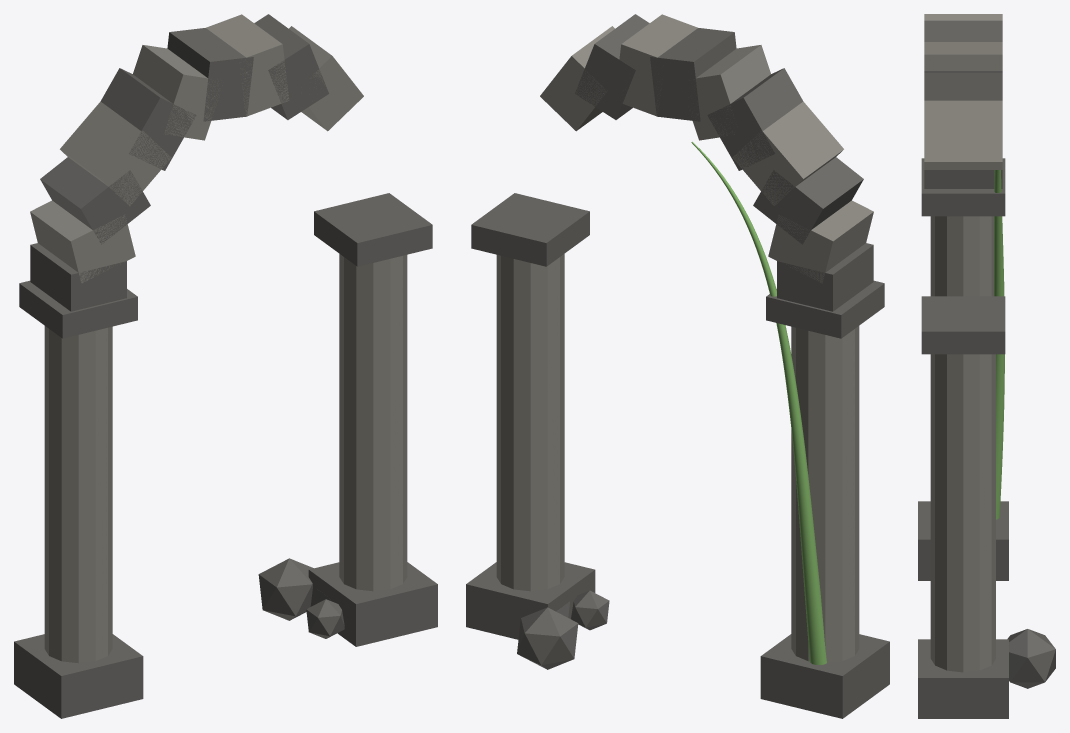
The model's file is arch.glb.
The picture shows the model from 3 angles, left to right: view 1: azimuth 30°, elevation 25°; view 2: azimuth 150°, elevation 25°; view 3: azimuth 270°, elevation 25°; orthographic projection. The views are drawn at different scales.
Parts seen in each view (by area): view 1: arch; view 2: arch; view 3: arch.
Part boxes in pixels (x1,y1,x2,y2): arch: (14, 14, 437, 718); arch: (466, 14, 889, 718); arch: (918, 14, 1055, 718).
Size of the model in its own units: 2.3 by 3.68 by 0.7594.
